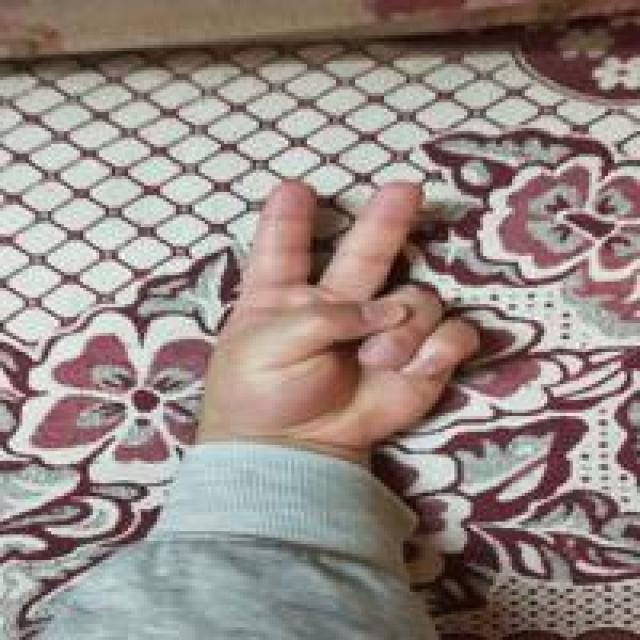V: (208, 170, 474, 438)
